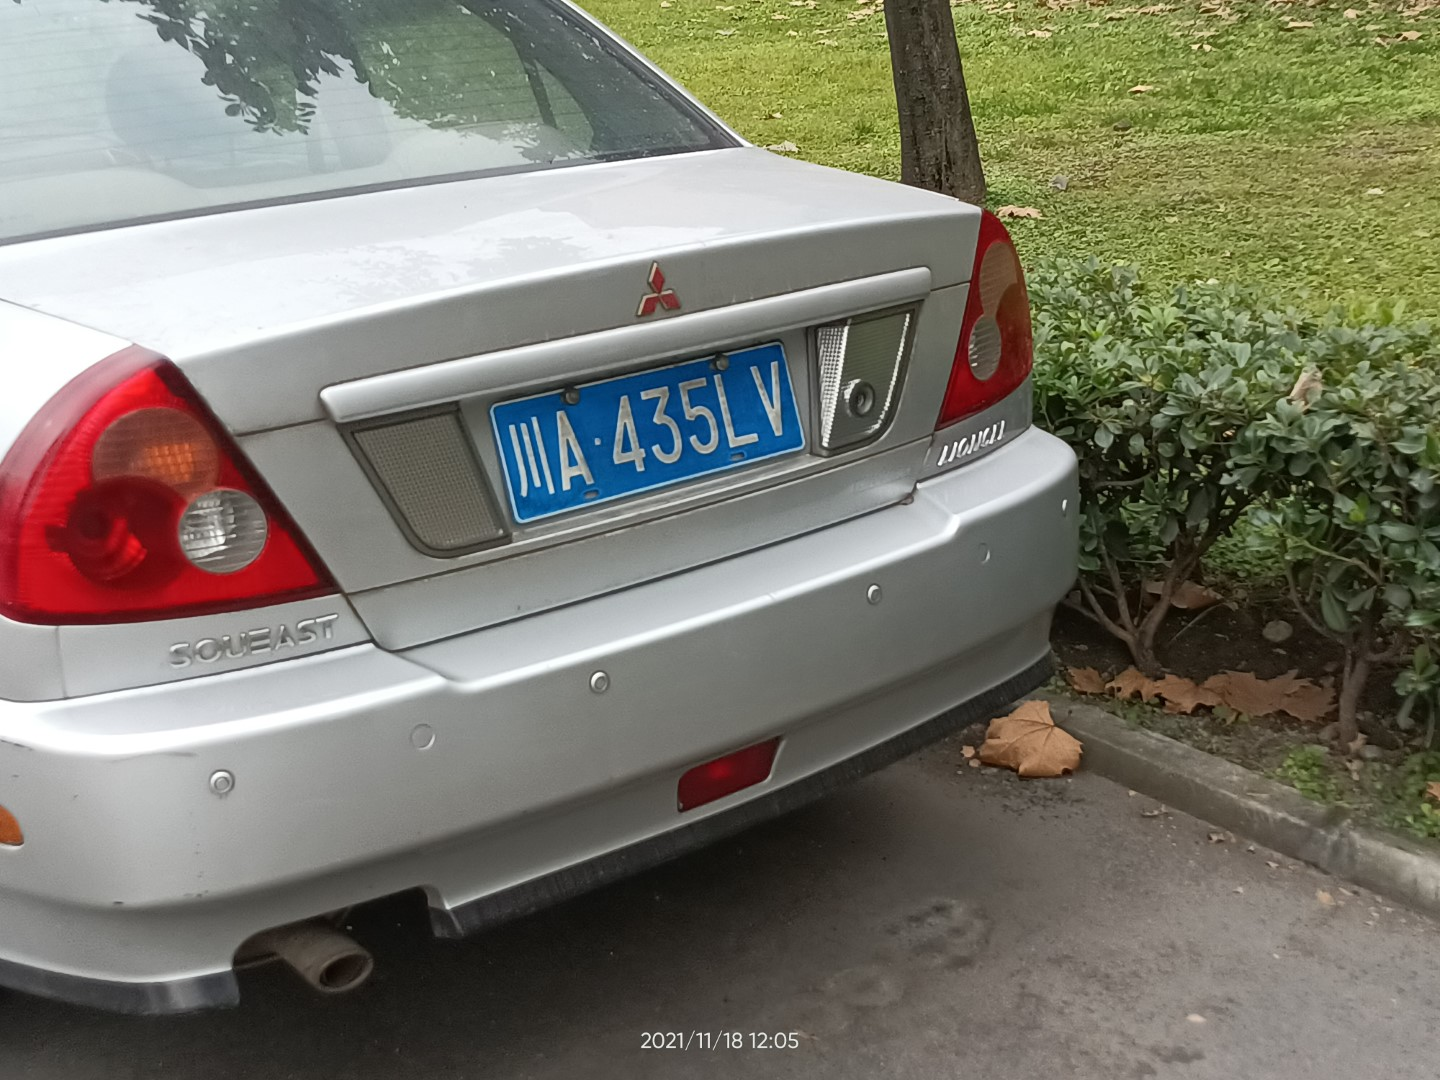plate: (491, 341, 805, 520)
